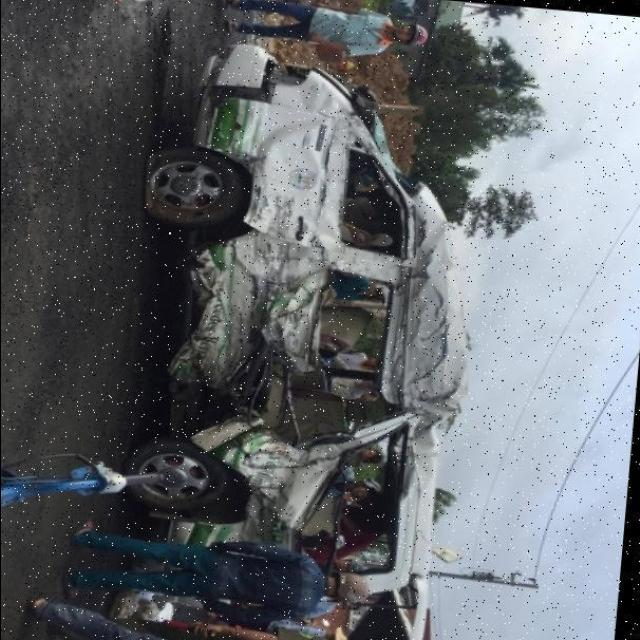accident: (123, 17, 491, 640)
